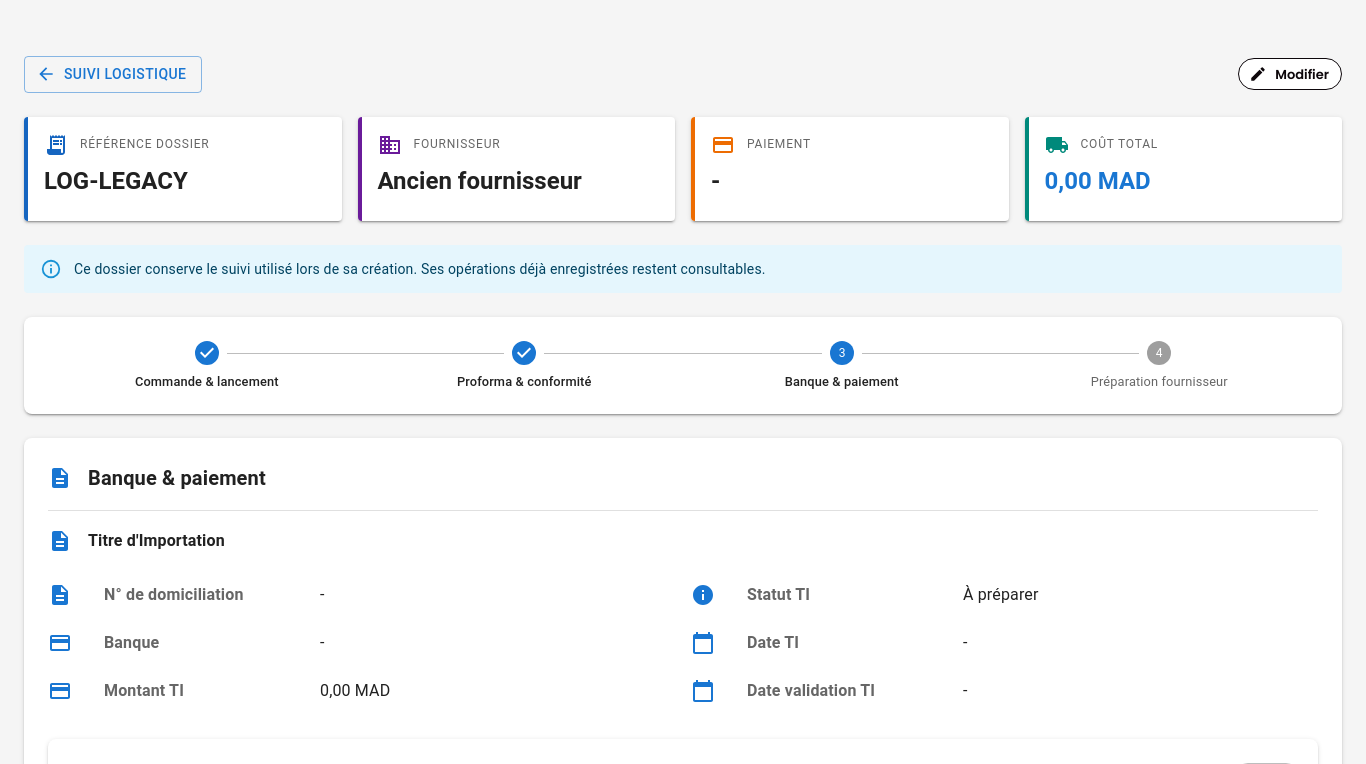
Test case: shows only the current card, allows read-only completed steps and locks future steps
Expected: the heading "Banque & paiement" is shown, [88, 462, 266, 494]
Expected: the tab "4 Préparation fournisseur" is disabled, [1000, 340, 1318, 390]
Click the tab "Commande & lancement" at (207,365), box [48, 340, 366, 390]
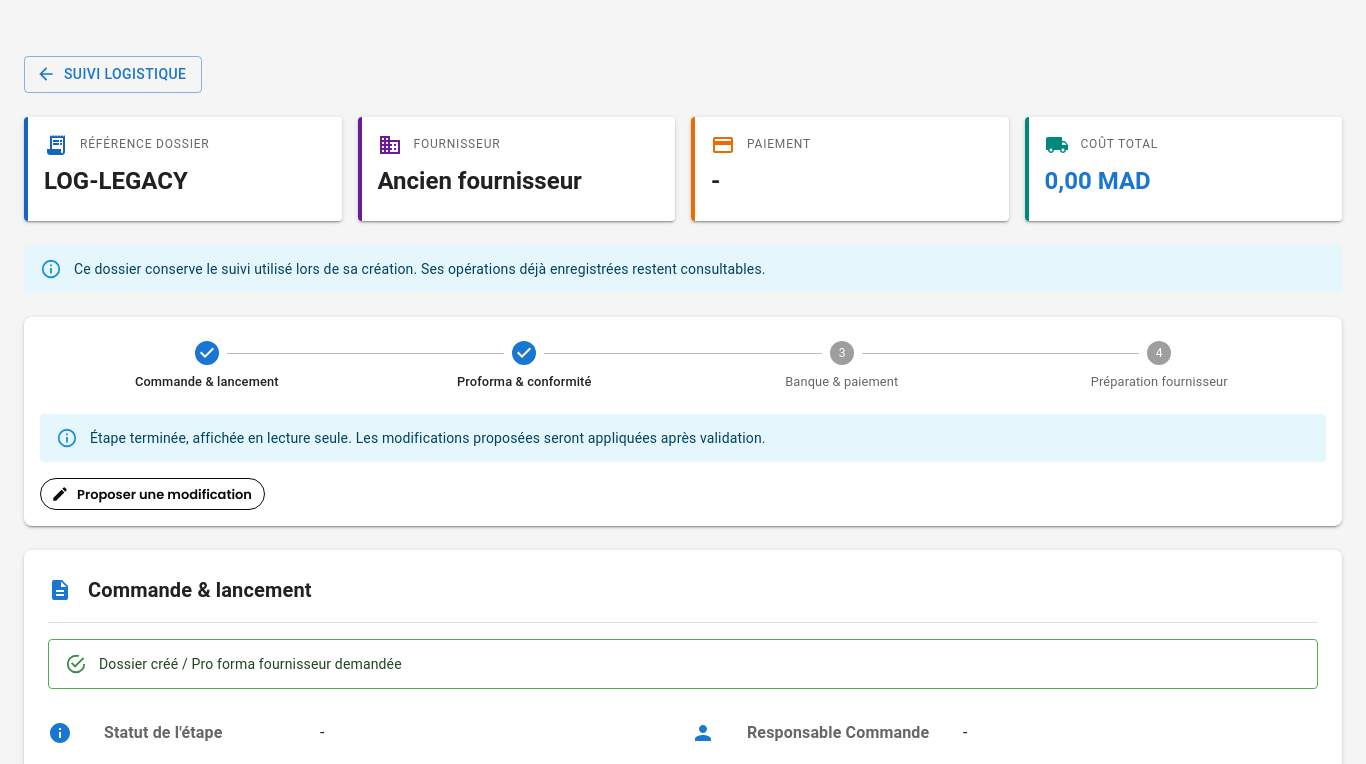
Result: the heading "Commande & lancement" is shown at [88, 574, 312, 606]
Result: the button "Modifier" is gone
Result: the button "Proposer une modification" is shown at [40, 478, 265, 510]
